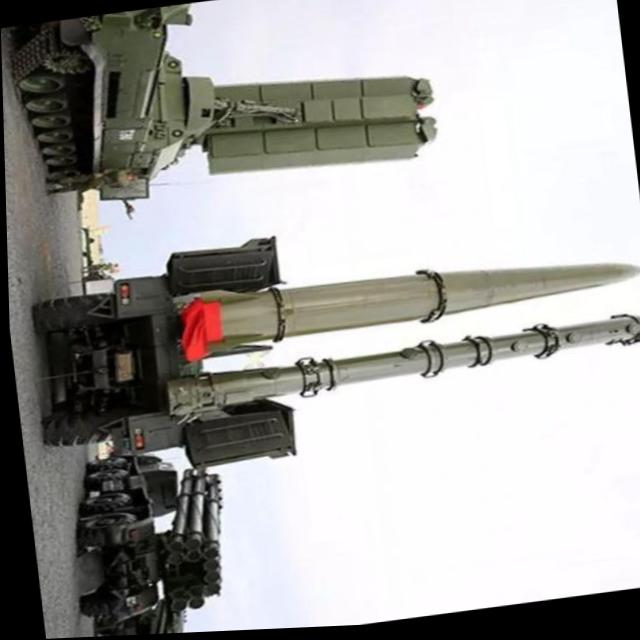missile: (161, 310, 640, 436), (169, 245, 640, 359)
